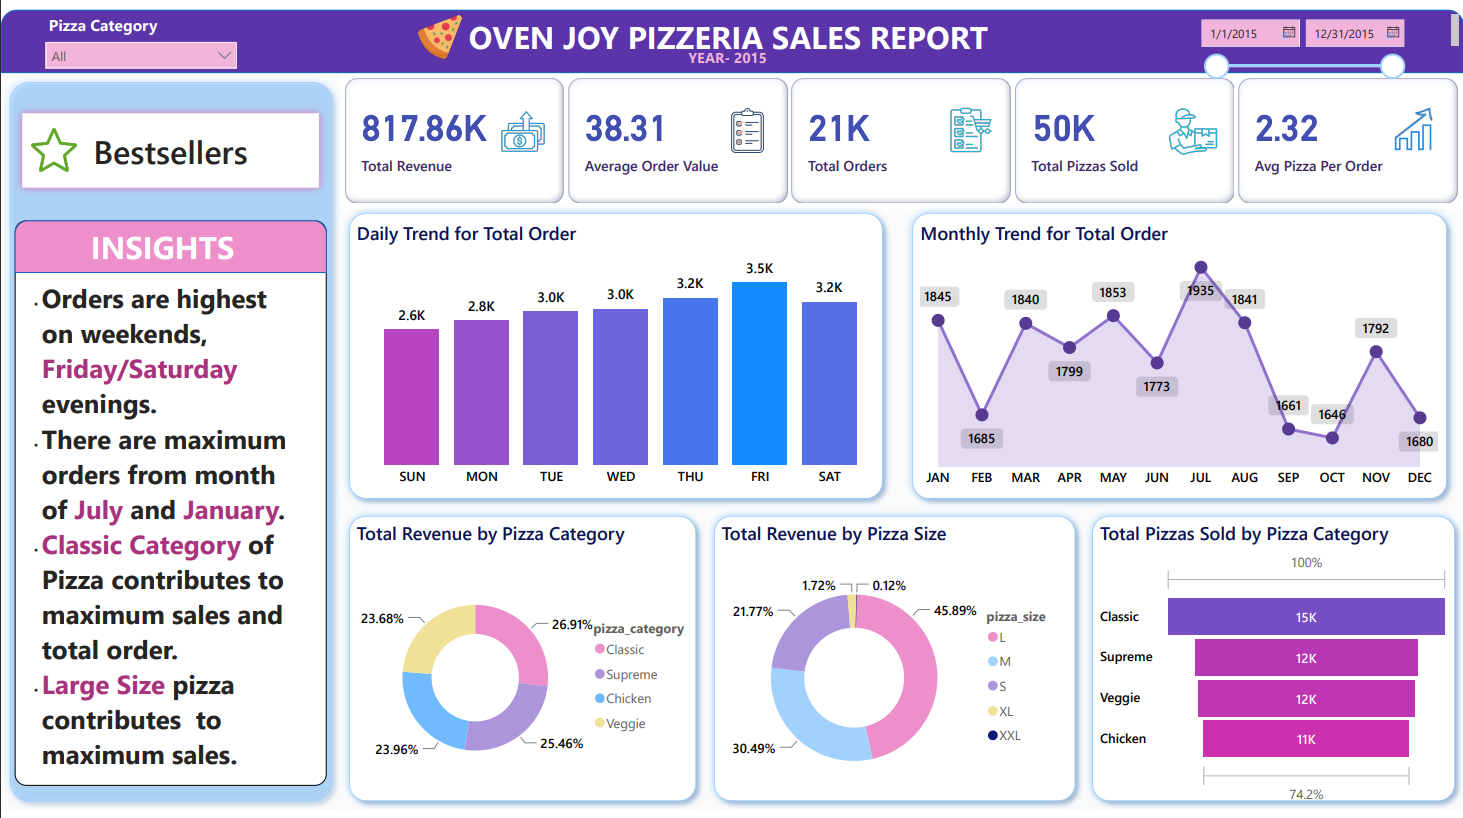

This screenshot's page, from the dashboard's own definition file:
{"tool":"powerbi","page":{"name":"Home","canvas":[1500,820],"ordinal":0},"visuals":[{"type":"cardVisual","fields":{"Data":["public pizza_sales.Total Revenue","public pizza_sales.Average Order Value","public pizza_sales.Total Orders","public pizza_sales.Total Pizzas Sold","public pizza_sales.Average Pizzas Per Order"]},"box":[347.5,65,1152.5,137.5],"z":0},{"type":"shape","box":[0,0,1500,65],"z":1},{"type":"textbox","box":[0,0,1500,46.7],"z":2},{"type":"textbox","box":[700,33.3,118.3,31.7],"z":3},{"type":"image","box":[398,0,104,56],"z":4},{"type":"shape","box":[347.5,200,565,310],"z":5},{"type":"columnChart","title":"Daily Trend for Total Order","fields":{"Y":["public pizza_sales.Total Orders"],"Category":["public pizza_sales.Order Day"]},"box":[360,216,552,282],"z":6},{"type":"shape","box":[925,200,565,310],"z":7},{"type":"areaChart","title":"Monthly Trend for Total Order","fields":{"Category":["public pizza_sales.Order Month"],"Y":["public pizza_sales.Total Orders"]},"box":[937.5,215,540,282.5],"z":8},{"type":"shape","box":[348.3,510,373.3,310],"z":9},{"type":"shape","box":[721.7,510,388.3,310],"z":10},{"type":"shape","box":[1110,510,390,310],"z":11},{"type":"donutChart","title":"Total Revenue by Pizza Category","fields":{"Category":["public pizza_sales.pizza_category"],"Y":["public pizza_sales.Total Revenue"]},"box":[360,523.3,361.7,296.7],"z":12},{"type":"donutChart","title":"Total Revenue by Pizza Size","fields":{"Y":["public pizza_sales.Total Revenue"],"Category":["public pizza_sales.pizza_size"]},"box":[733.3,523.3,361.7,296.7],"z":13},{"type":"funnel","title":"Total Pizzas Sold by Pizza Category","fields":{"Category":["public pizza_sales.pizza_category"],"Y":["public pizza_sales.Total Pizzas Sold"]},"box":[1121.7,523.3,368.3,296.7],"z":14},{"type":"shape","box":[0,66,348,754],"z":15},{"type":"textbox","box":[14,216,320,580],"z":16},{"type":"shape","box":[14,216,320,54],"z":17},{"type":"textbox","box":[80,216,172,54],"z":18},{"type":"slicer","fields":{"Values":["public pizza_sales.order_date"]},"box":[1218,0,230,84],"z":19},{"type":"slicer","fields":{"Values":["public pizza_sales.pizza_category"]},"box":[36,0,216,66],"z":20},{"type":"pageNavigator","box":[14,98,320,92],"z":21},{"type":"image","box":[14,116,80,56],"z":22}]}

Visuals, with their boxes in screenshot pixels (x1, y1, x2, y2), scaled from the page's 1500x820 canvas onto the 1463x818 screenshot:
cardVisual - public pizza_sales.Total Revenue x public pizza_sales.Average Order Value: (left=339, top=65, right=1462, bottom=202)
shape: (left=0, top=0, right=1462, bottom=65)
textbox: (left=0, top=0, right=1462, bottom=47)
textbox: (left=683, top=33, right=798, bottom=65)
image: (left=388, top=0, right=490, bottom=56)
shape: (left=339, top=200, right=890, bottom=509)
"Daily Trend for Total Order" columnChart: (left=351, top=215, right=890, bottom=497)
shape: (left=902, top=200, right=1453, bottom=509)
"Monthly Trend for Total Order" areaChart: (left=914, top=214, right=1441, bottom=496)
shape: (left=340, top=509, right=704, bottom=817)
shape: (left=704, top=509, right=1083, bottom=817)
shape: (left=1083, top=509, right=1462, bottom=817)
"Total Revenue by Pizza Category" donutChart: (left=351, top=522, right=704, bottom=817)
"Total Revenue by Pizza Size" donutChart: (left=715, top=522, right=1068, bottom=817)
"Total Pizzas Sold by Pizza Category" funnel: (left=1094, top=522, right=1453, bottom=817)
shape: (left=0, top=66, right=339, bottom=817)
textbox: (left=14, top=215, right=326, bottom=794)
shape: (left=14, top=215, right=326, bottom=269)
textbox: (left=78, top=215, right=246, bottom=269)
slicer - public pizza_sales.order_date: (left=1188, top=0, right=1412, bottom=84)
slicer - public pizza_sales.pizza_category: (left=35, top=0, right=246, bottom=66)
pageNavigator: (left=14, top=98, right=326, bottom=190)
image: (left=14, top=116, right=92, bottom=172)
